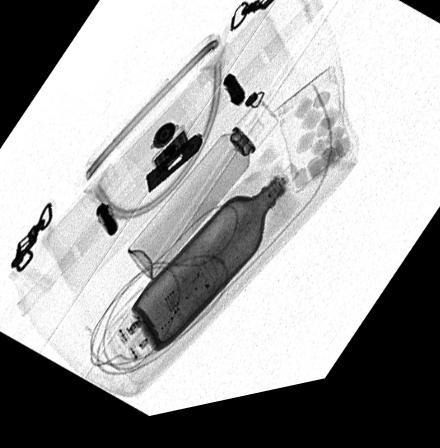Sprayer: (129, 109, 281, 286)
